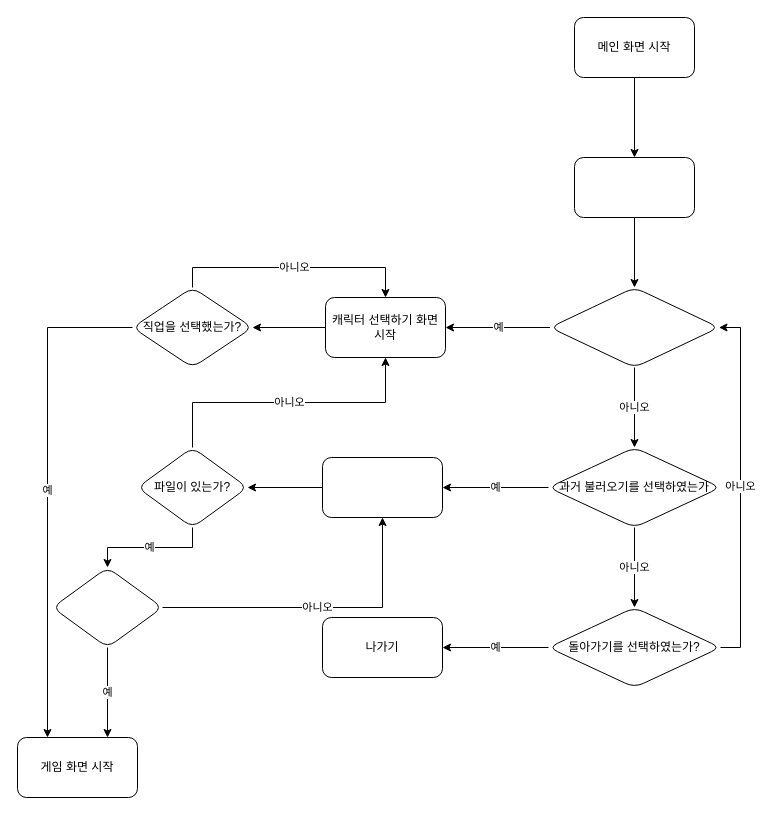
Some shapes in this 773 by 815 pixel diagram are drawn without their labels. Each missing label, with the centre of its shape:
"새로 시작하기를 선택하였는가" belongs at point (634, 327).
"에니메이션" belongs at point (634, 187).
"저장된 파일 선택 화면 시작" belongs at point (382, 487).
"파일을 선택했는가?" belongs at point (107, 607).
